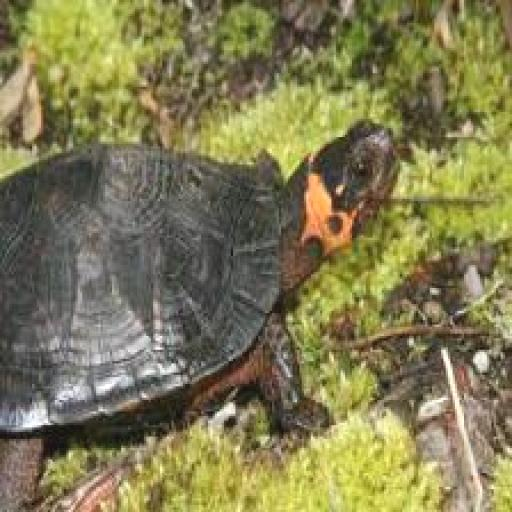turtle: (0, 110, 400, 439)
